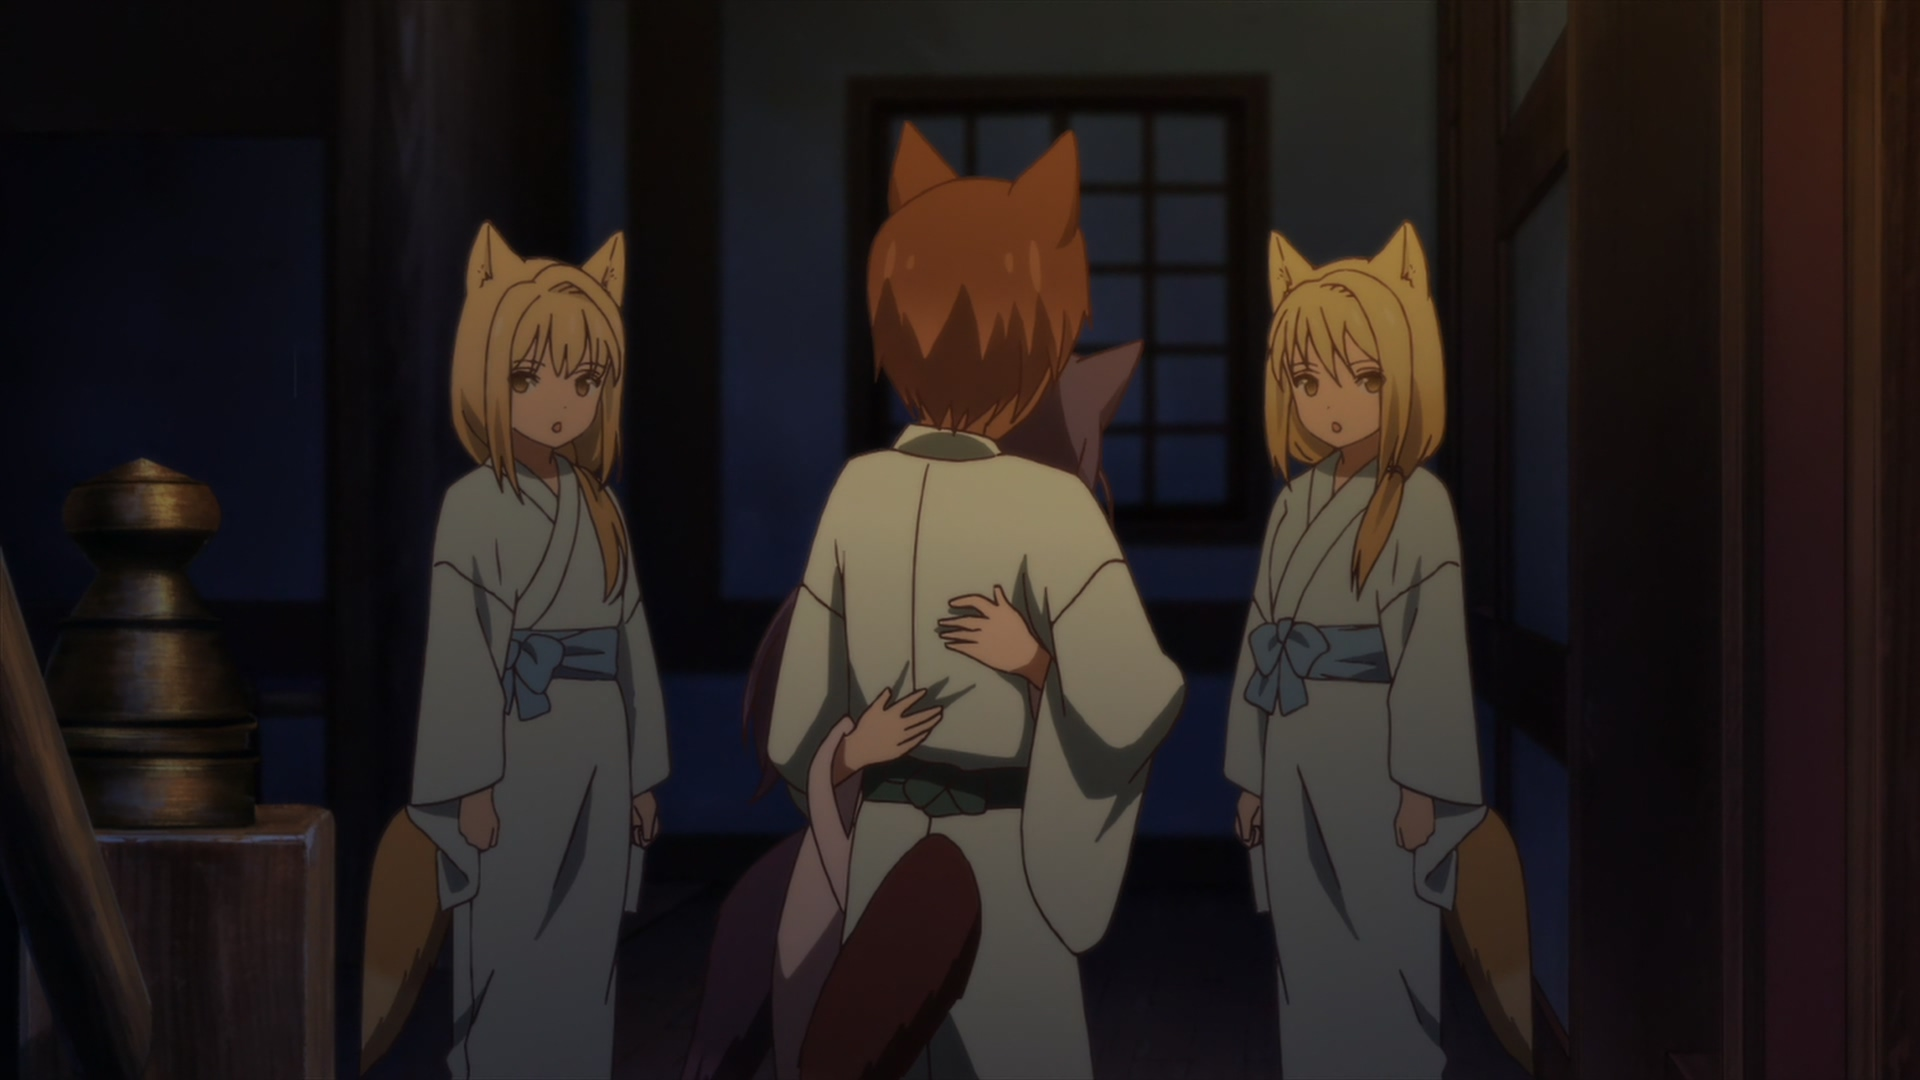枣: (767, 120, 1184, 1080)
桐: (355, 223, 673, 1080), (1222, 222, 1536, 1080)
